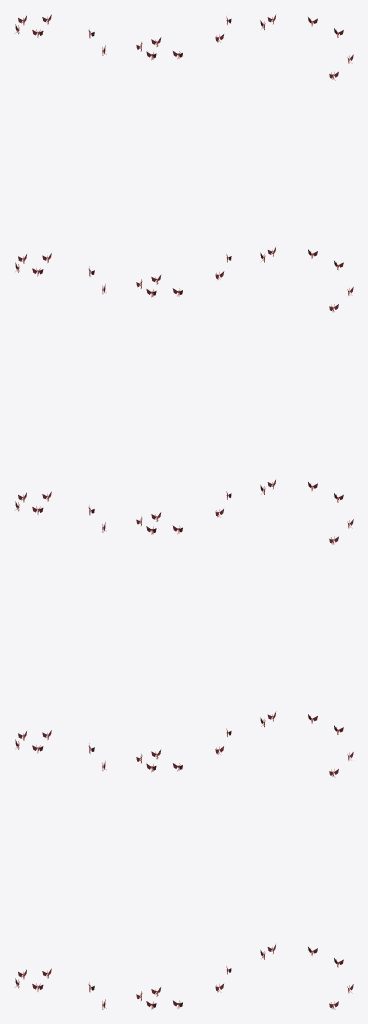
The model's file is Circle6Crowd0.obj.
3 renders of one model, left to right at view 1: azimuth 30°, elevation 25°; view 2: azimuth 150°, elevation 25°; view 3: azimuth 330°, elevation 25°, orthographic. The views are drawn at different scales.
Parts seen in each view (by area): view 1: Circle6Crowd0; view 2: Circle6Crowd0; view 3: Circle6Crowd0.
Boxes of the visible parts, left/top/right/bottom form: Circle6Crowd0: left=15, top=14, right=106, bottom=1009; Circle6Crowd0: left=136, top=16, right=231, bottom=1009; Circle6Crowd0: left=260, top=14, right=353, bottom=1009.
Bounding box in the file's own units: 29.06 × 335 × 22.97.
1 material, 1 textured.
